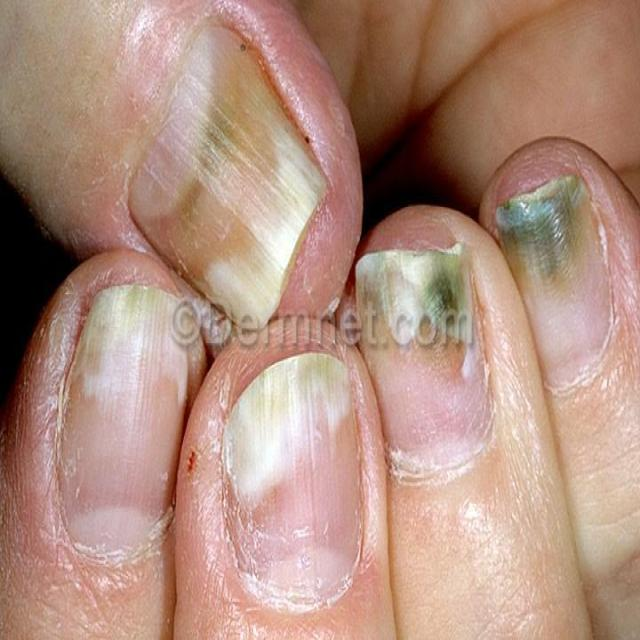Nail: (127, 23, 333, 336), (223, 351, 366, 608), (59, 289, 188, 555), (355, 244, 494, 479), (495, 175, 612, 380)
